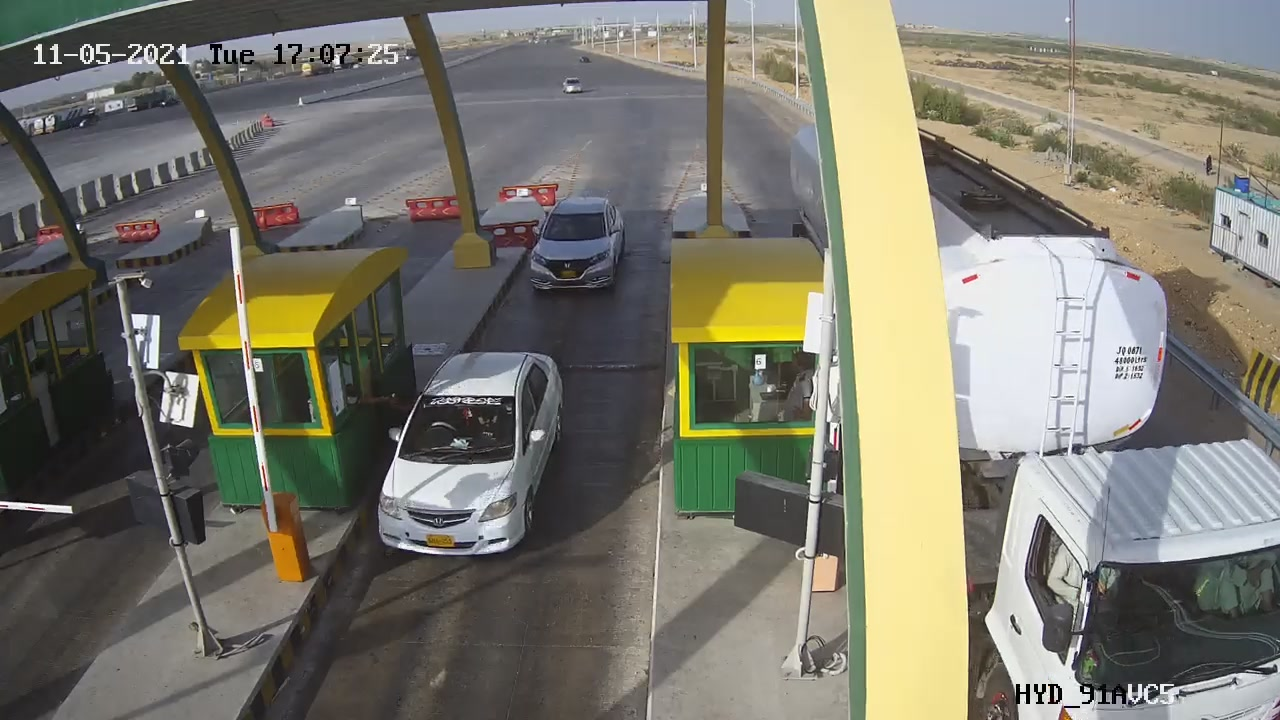F1: (359, 330, 581, 577), (507, 186, 646, 313)
